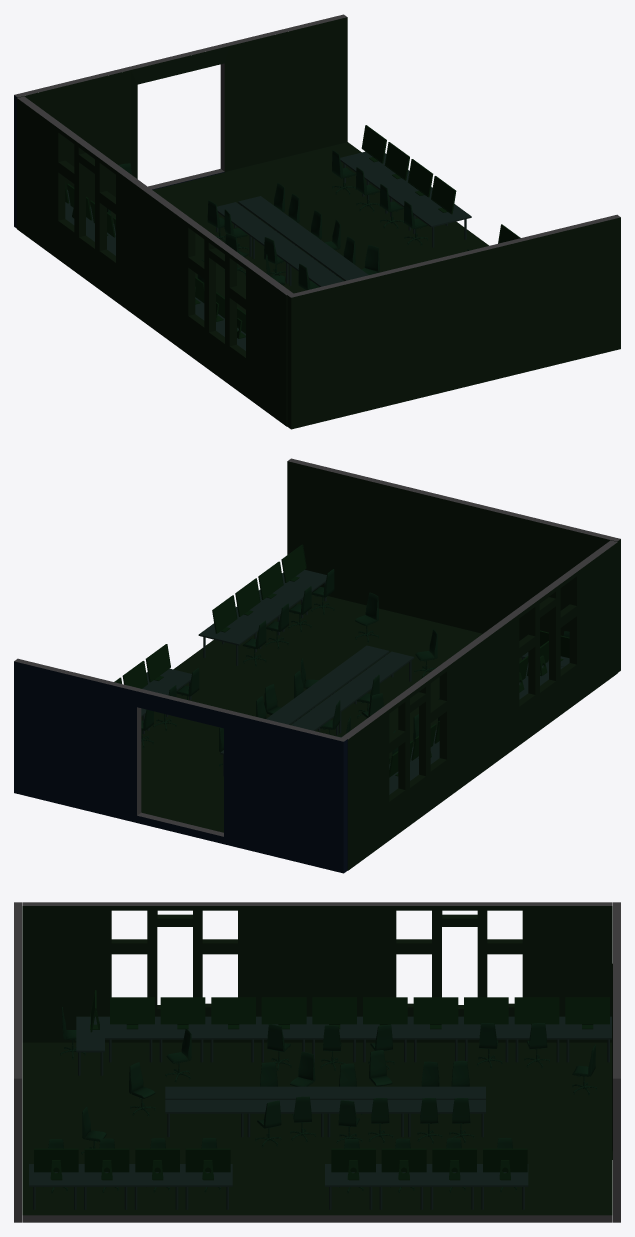
The model's file is roomDev.gltf.
The picture shows the model from 3 angles, top to bottom: view 1: azimuth 30°, elevation 25°; view 2: azimuth 150°, elevation 25°; view 3: azimuth 270°, elevation 25°; orthographic projection. The views are drawn at different scales.
Visible parts, largest first — view 1: wall_dev_center.001, wall_dev_right, wall_dev_center, floor_dev, desk_dev_center, desk_dev_left, mac_des_left.001, chair.054, Cube.004, desk_dev_right; view 2: wall_dev_center, wall_dev_right, wall_dev_center.001, floor_dev, desk_dev_center, desk_dev_left2, mac_des_left.002, chair.034, mac_des_left.001, Cube.004, desk_dev_right, desk_dev_left (+2 smaller); view 3: floor_dev, wall_dev_right, Cube.004, desk_dev_right, desk_dev_center, mac_des_left.002, mac_des_left.001, desk_dev_left2, desk_dev_left, wall_dev_center, wall_dev_center.001, desk_dev_prof (+18 smaller).
Part boxes in pixels (x1,y1,x2,y2): wall_dev_center.001: (287, 214, 620, 429); wall_dev_right: (17, 96, 293, 426); wall_dev_center: (14, 14, 347, 228); floor_dev: (90, 142, 488, 313); desk_dev_center: (216, 196, 368, 286); desk_dev_left: (340, 151, 471, 247); mac_des_left.001: (361, 125, 456, 214); chair.054: (332, 150, 427, 245); Cube.004: (65, 181, 245, 338); desk_dev_right: (65, 190, 245, 350); wall_dev_center: (14, 658, 347, 873); wall_dev_right: (341, 540, 617, 870); wall_dev_center.001: (287, 458, 620, 672); floor_dev: (141, 594, 521, 832); desk_dev_center: (220, 645, 414, 776); desk_dev_left2: (198, 570, 326, 665); mac_des_left.002: (212, 544, 306, 633); chair.034: (242, 569, 334, 666); mac_des_left.001: (114, 644, 170, 688); Cube.004: (389, 641, 548, 777); desk_dev_right: (389, 662, 563, 794); desk_dev_left: (141, 668, 191, 733); floor_dev: (22, 1042, 612, 1222); wall_dev_right: (22, 902, 612, 1042); Cube.004: (110, 997, 609, 1029); desk_dev_right: (105, 1016, 611, 1062); desk_dev_center: (165, 1086, 485, 1137); mac_des_left.002: (34, 1148, 230, 1180); mac_des_left.001: (331, 1148, 527, 1180); desk_dev_left2: (29, 1164, 232, 1209); desk_dev_left: (325, 1164, 528, 1209); wall_dev_center: (612, 902, 620, 1222); wall_dev_center.001: (14, 902, 21, 1222); desk_dev_prof: (76, 1016, 104, 1075).
Size of the model in its own units: 41.1 by 15.65 by 59.68.
